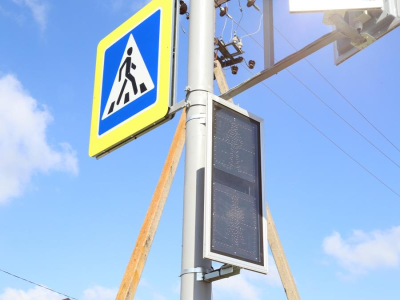crosswalk: (98, 25, 160, 134)
